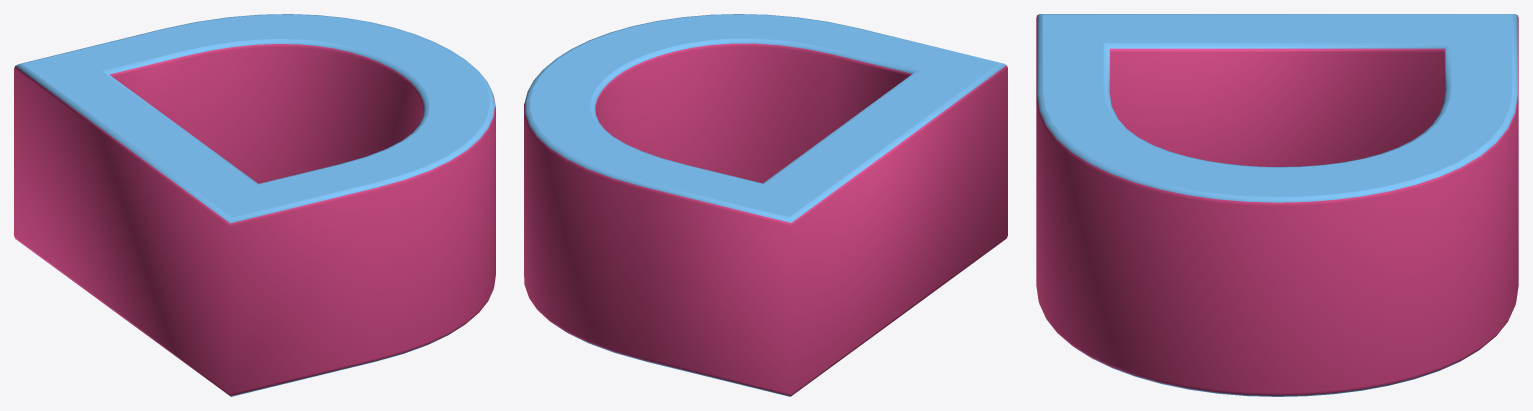
File: letter_D.fbx
The picture shows the model from 3 angles, left to right: view 1: azimuth 30°, elevation 25°; view 2: azimuth 150°, elevation 25°; view 3: azimuth 270°, elevation 25°; orthographic projection. The views are drawn at different scales.
Visible parts, largest first — view 1: Letter_D; view 2: Letter_D; view 3: Letter_D.
Boxes of the visible parts, x1=… form: Letter_D: x1=14, y1=14, x2=495, y2=396; Letter_D: x1=524, y1=14, x2=1007, y2=396; Letter_D: x1=1036, y1=14, x2=1518, y2=396.
Bounding box in the file's own units: 64.8 × 32 × 70.2.
